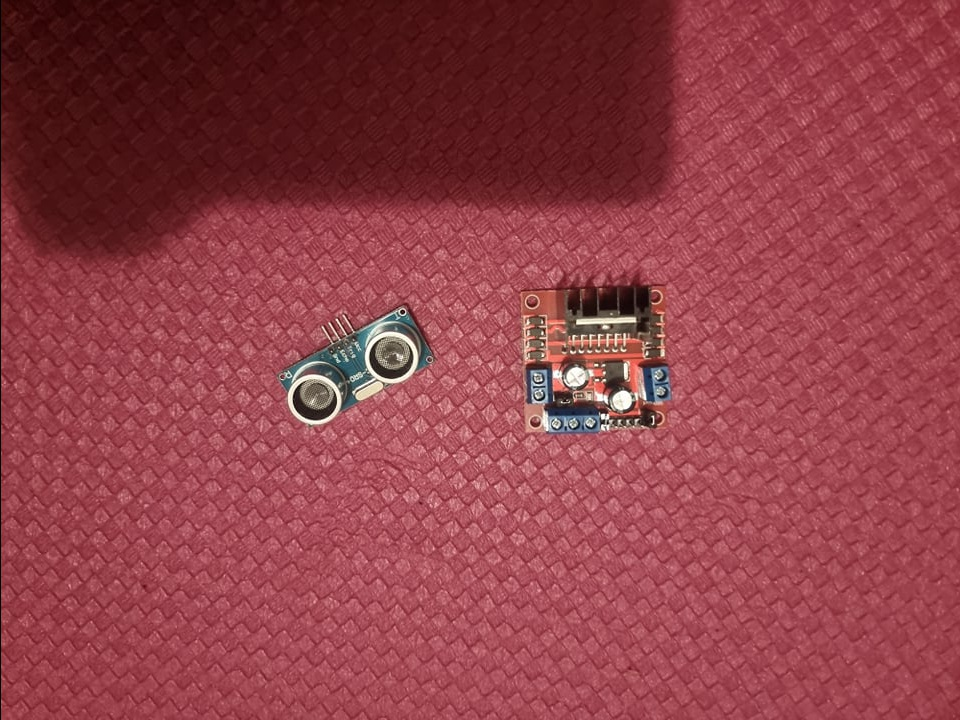MOTOR: (521, 277, 673, 435)
SENSOR: (272, 308, 437, 433)
